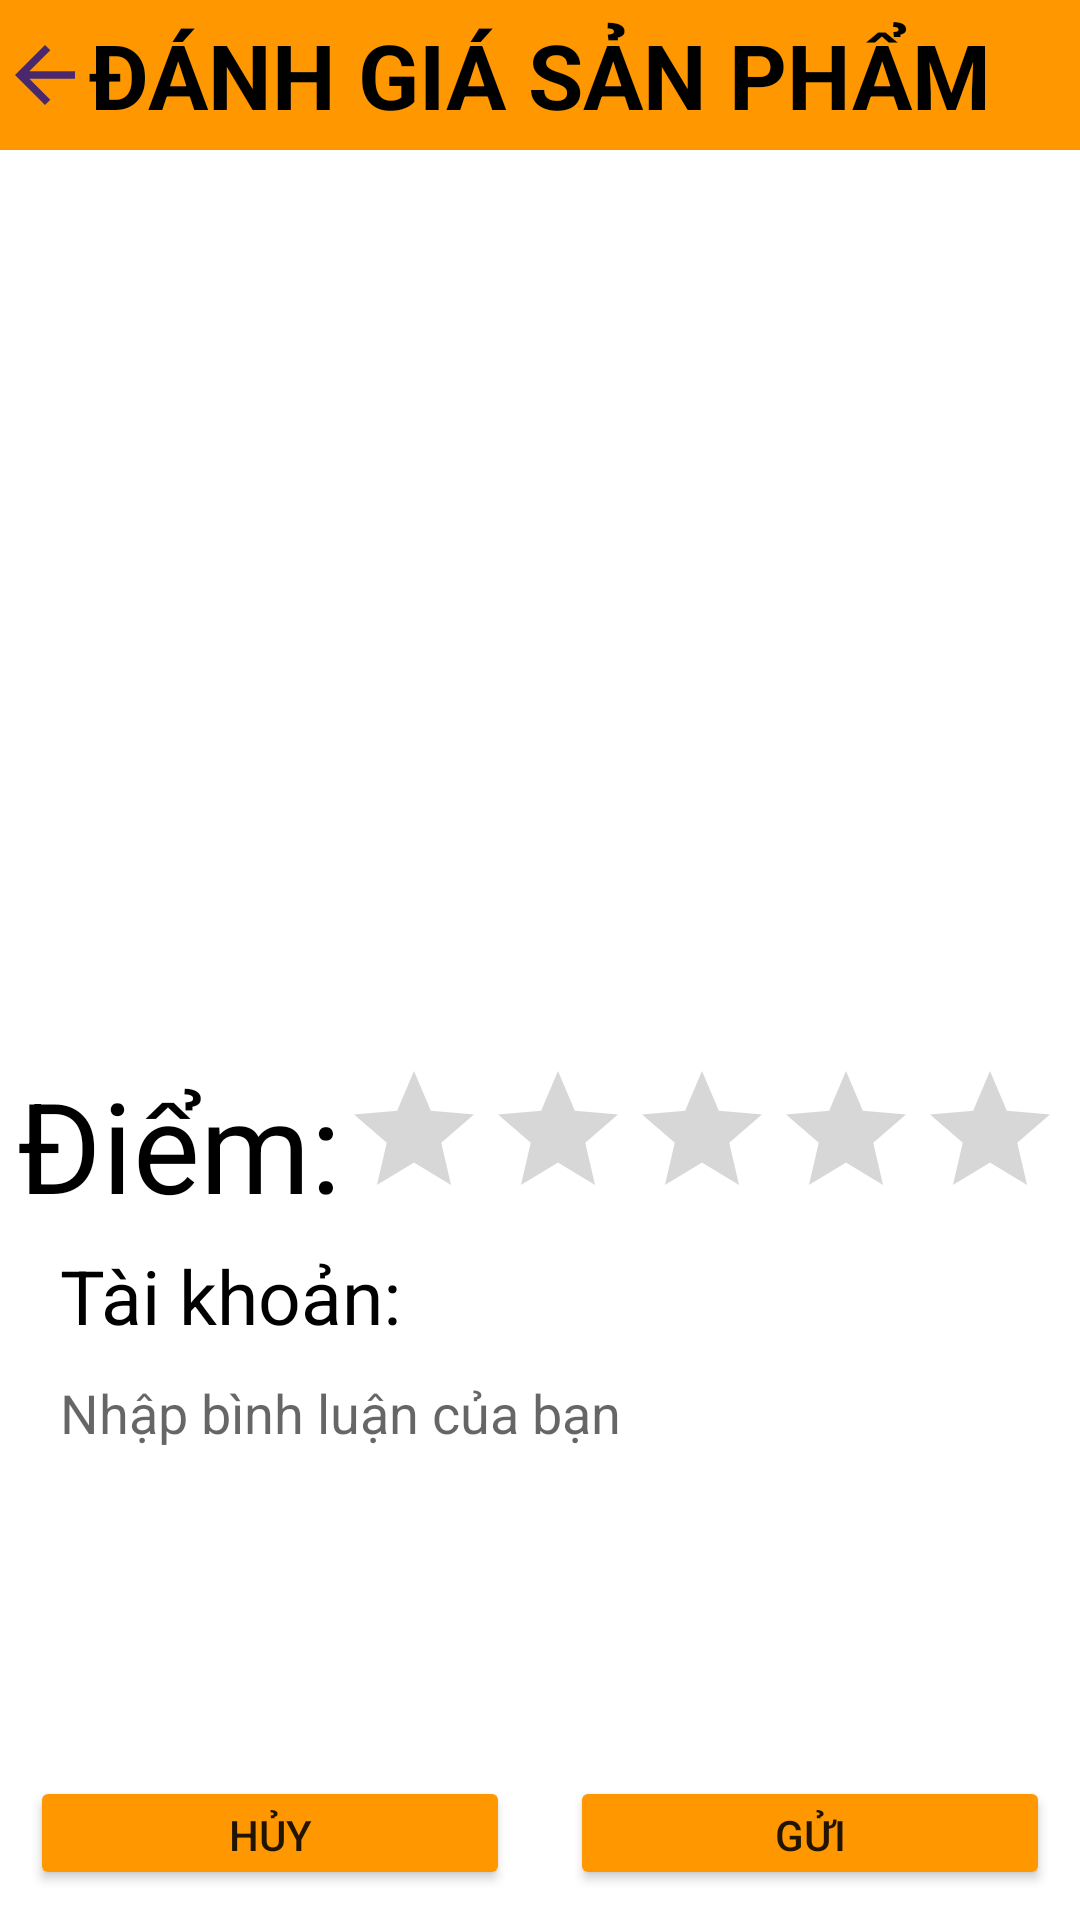

Locate icon controls on the screen. Image size 1080x1920, boxes as (x1, y1, x2, y2).
arrow back: (15, 45, 75, 105)
